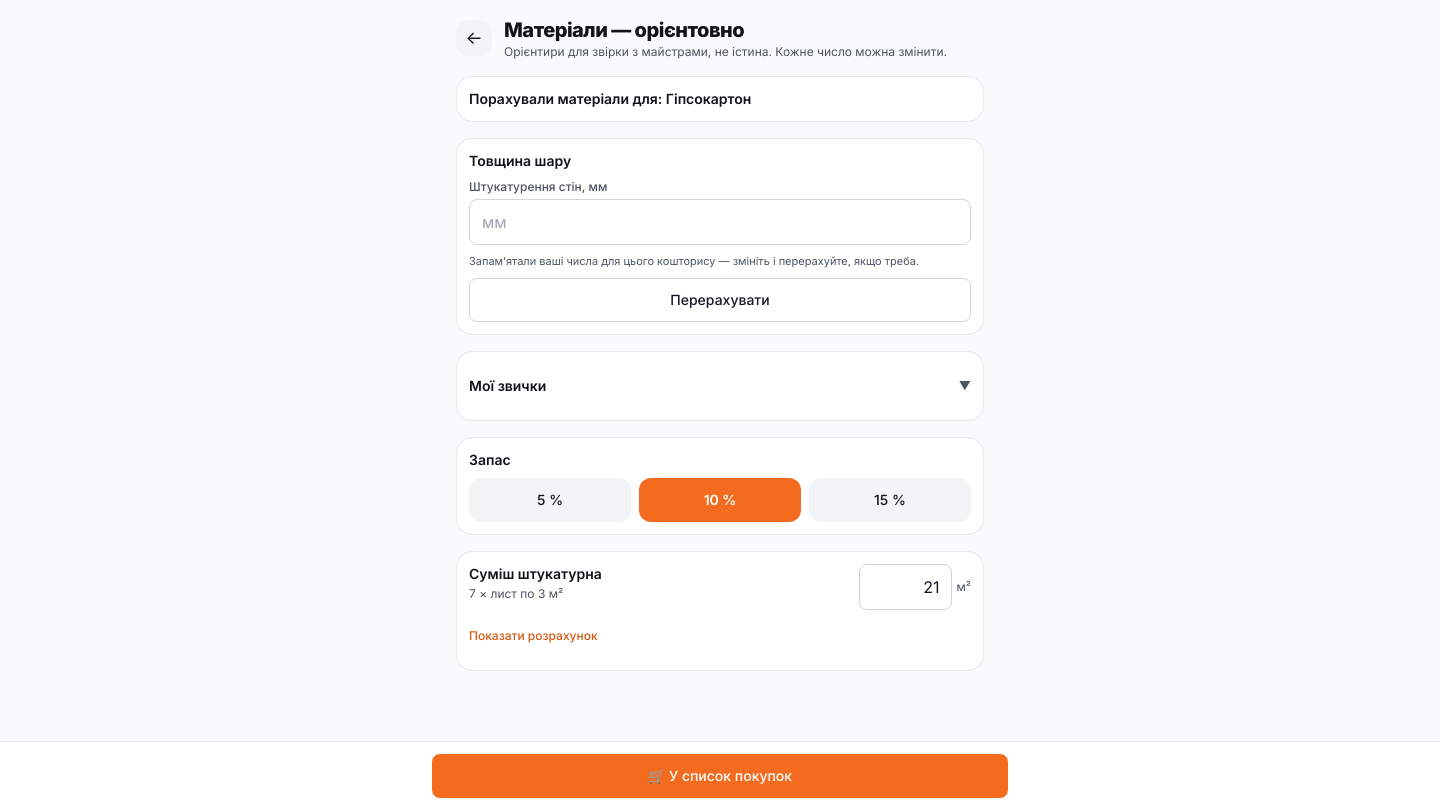
Test case: MaterialCalculatorPage › shows the thickness as its own factor, in millimetres
Click the button "Показати розрахунок": (533, 636) [469,614,598,658]
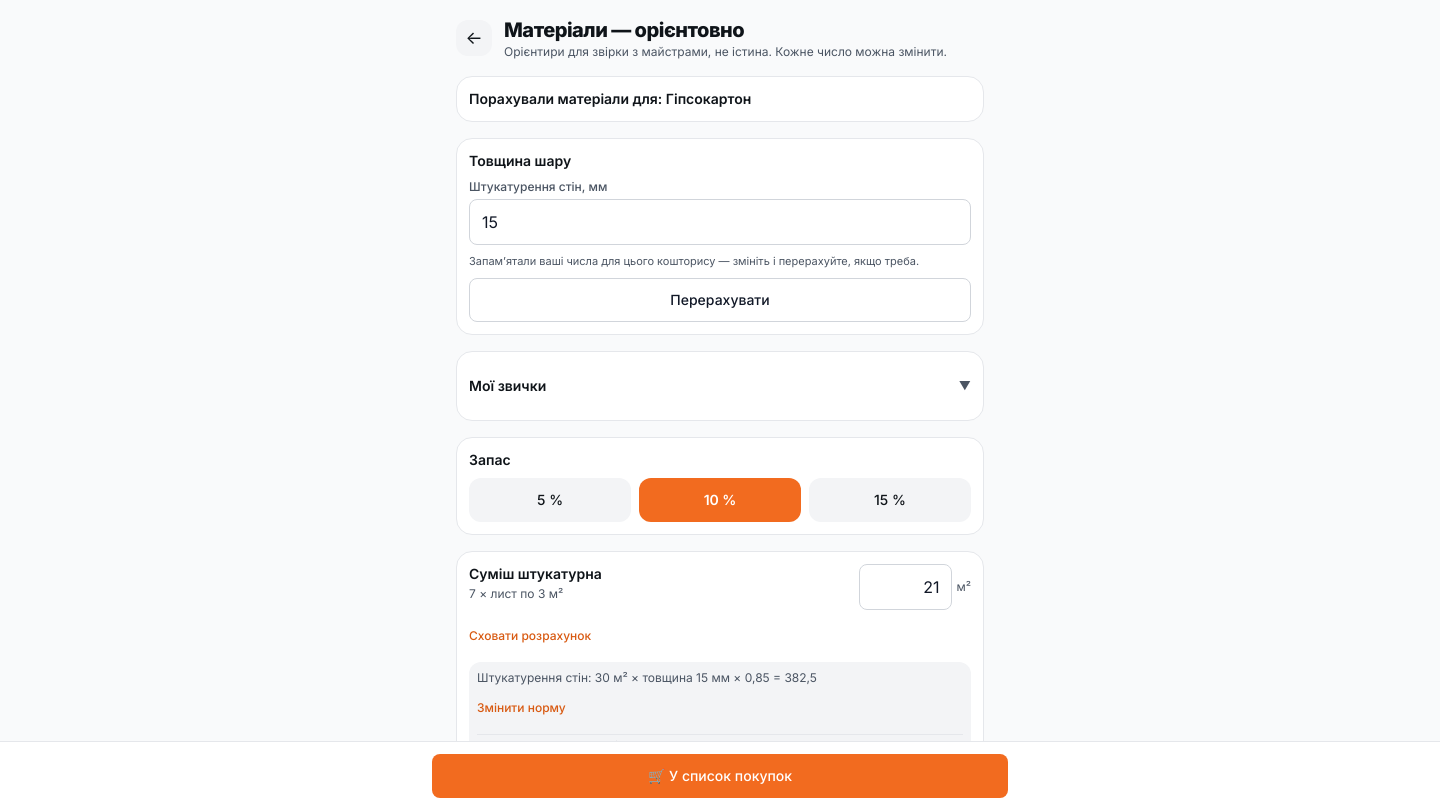
Expected: the text "Штукатурення стін: 30 м² × товщина 15 мм × 0,85 = 382,5" is shown, [477,670,817,684]
